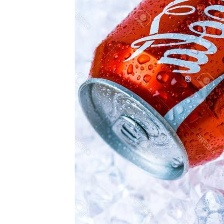can: (74, 0, 224, 183)
